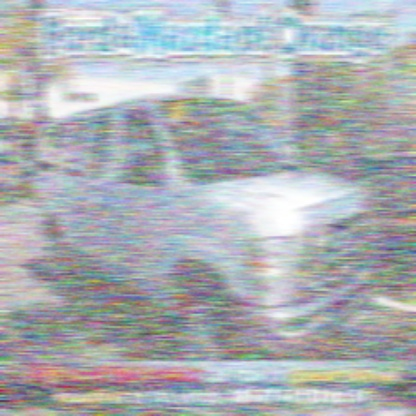Vehicle: (32, 98, 376, 366)
